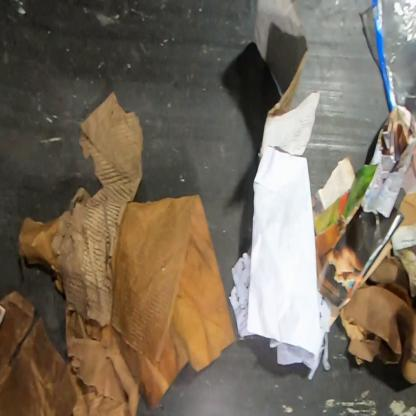cardboard: (0, 89, 239, 415), (251, 0, 322, 160), (339, 236, 415, 385), (390, 190, 415, 251)
soft_plastic: (370, 0, 415, 122)
